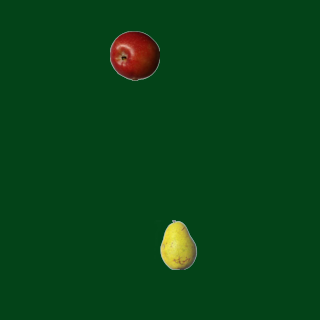Apple Braeburn: (109, 30, 159, 80)
Pear Monster: (153, 219, 203, 269)
